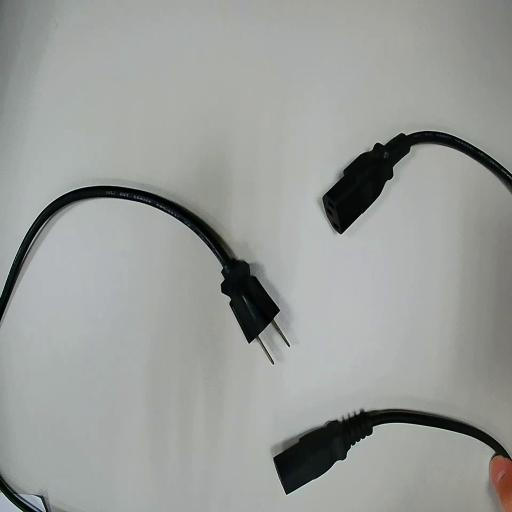wire: (0, 186, 278, 341), (274, 410, 511, 492), (323, 132, 511, 232)
